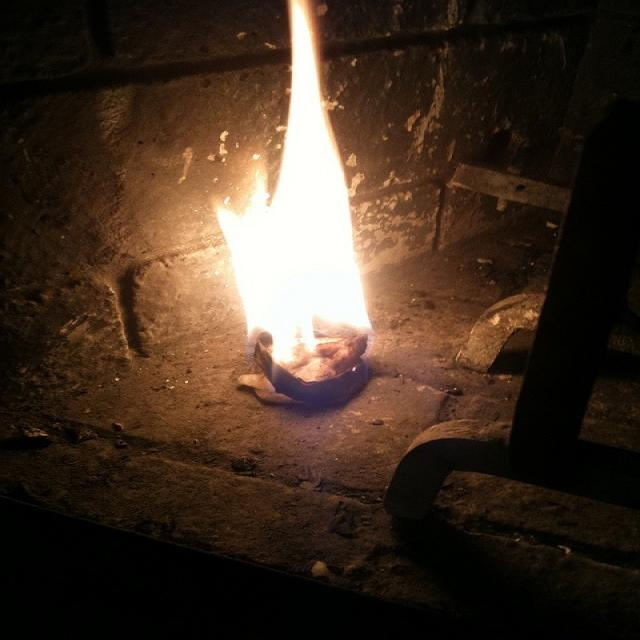fire: (214, 0, 374, 364)
